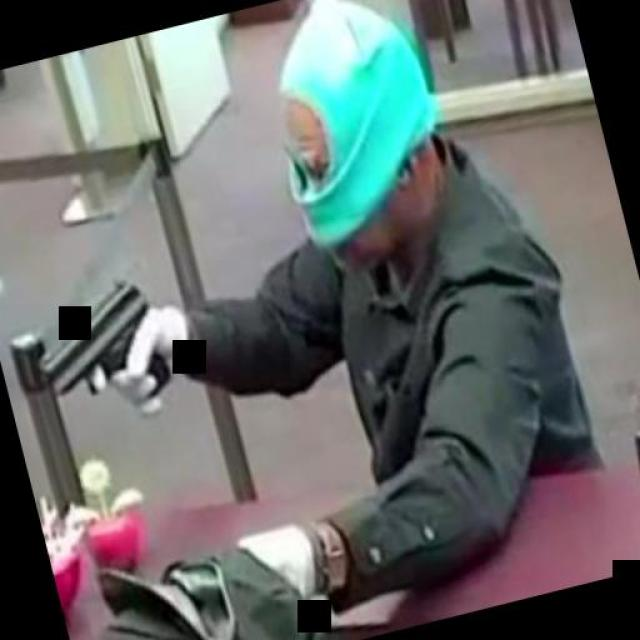gun: (16, 265, 184, 434)
